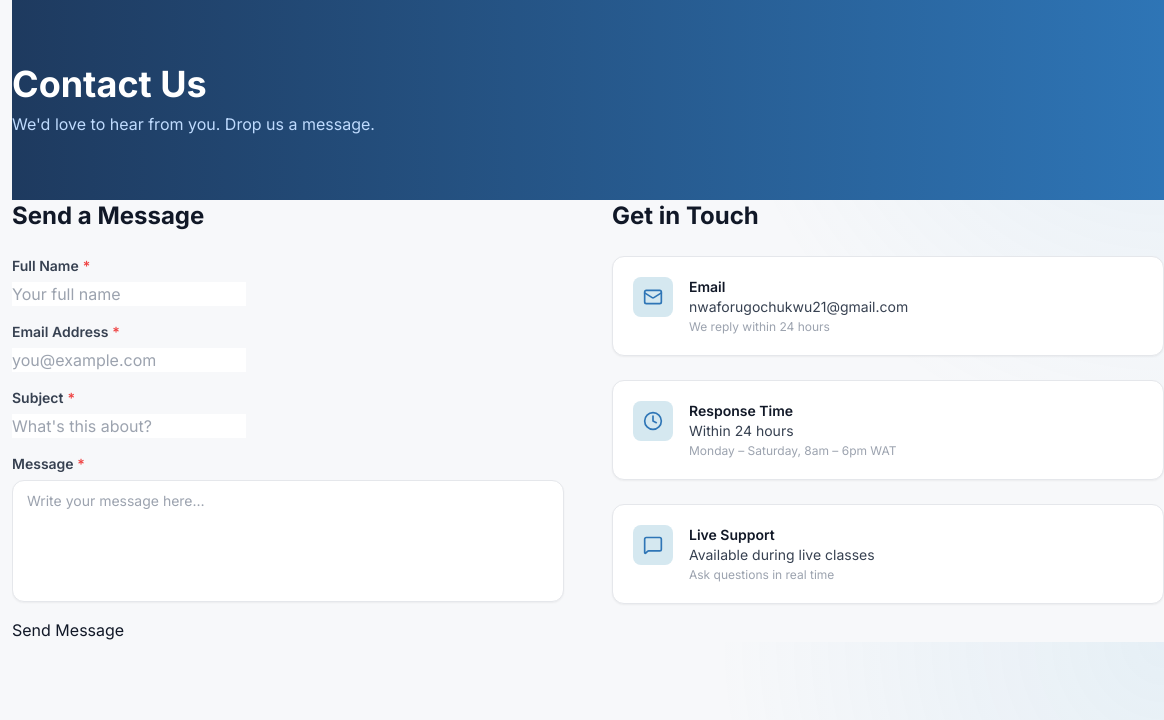
it: ContactPage › submits successfully and shows the success state
Type "Test User" into the field labelled "Full Name*" at x=129, y=294, box [12,282,246,306]
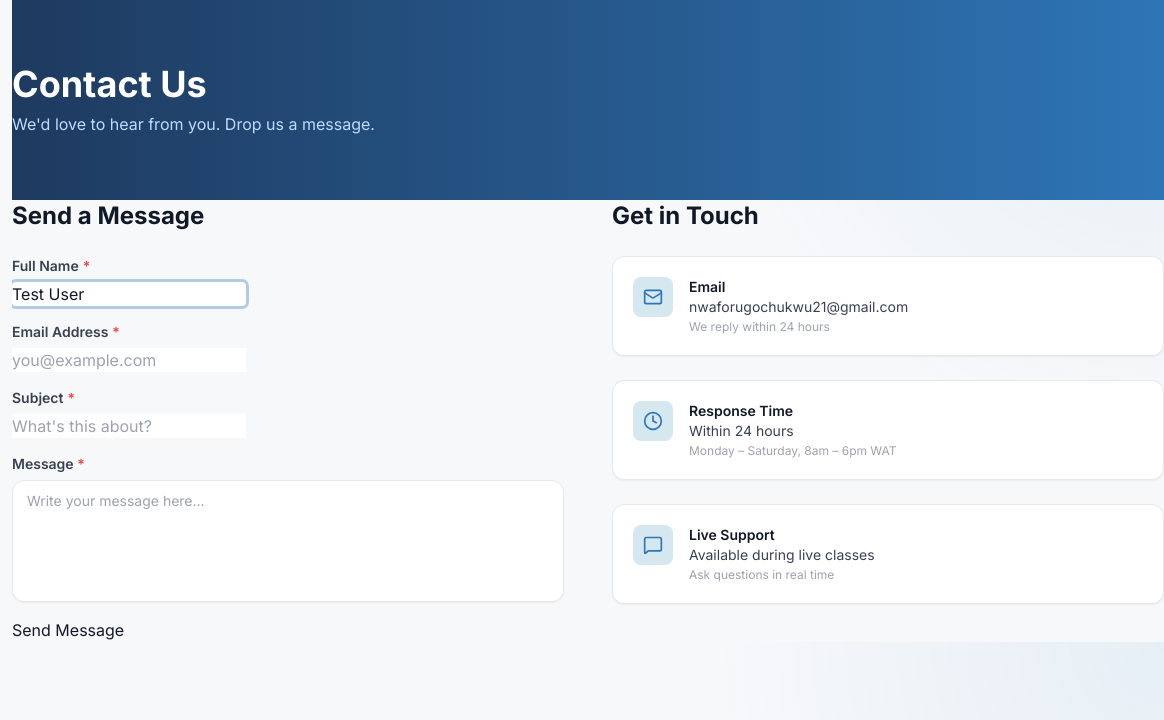
Type "test@example.com" into the field labelled "Email Address*" at x=129, y=360, box [12,348,246,372]
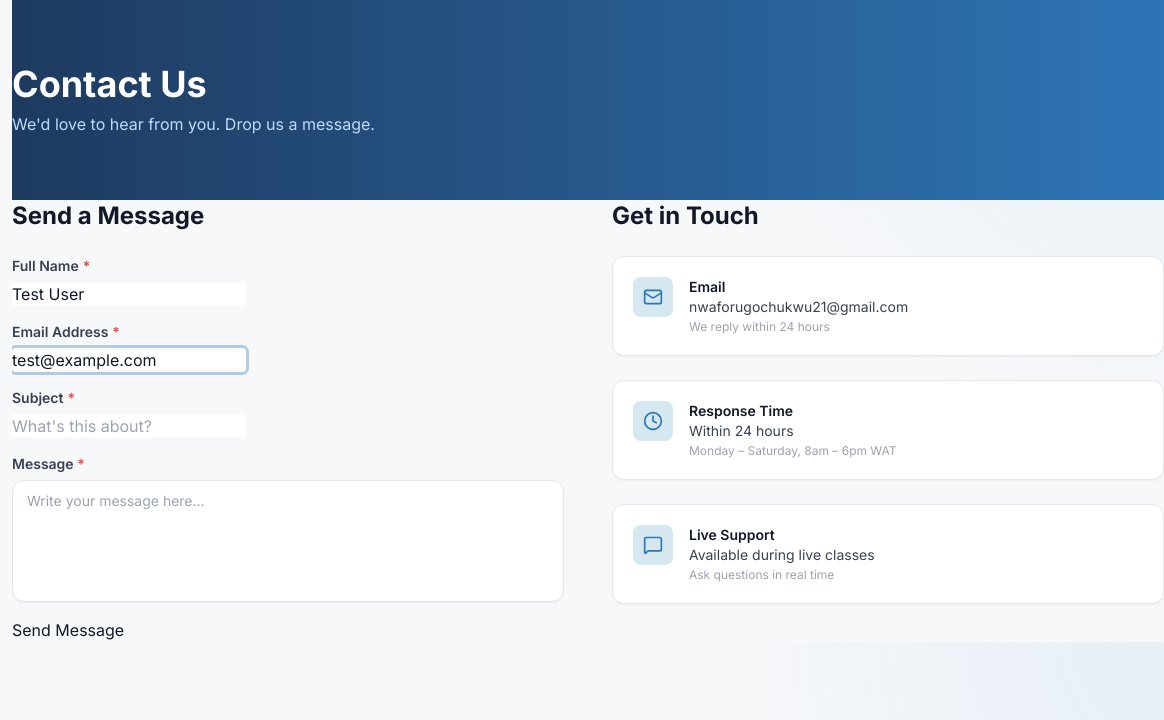
Type "Question about courses" into the field labelled "Subject*" at x=129, y=426, box [12,414,246,438]
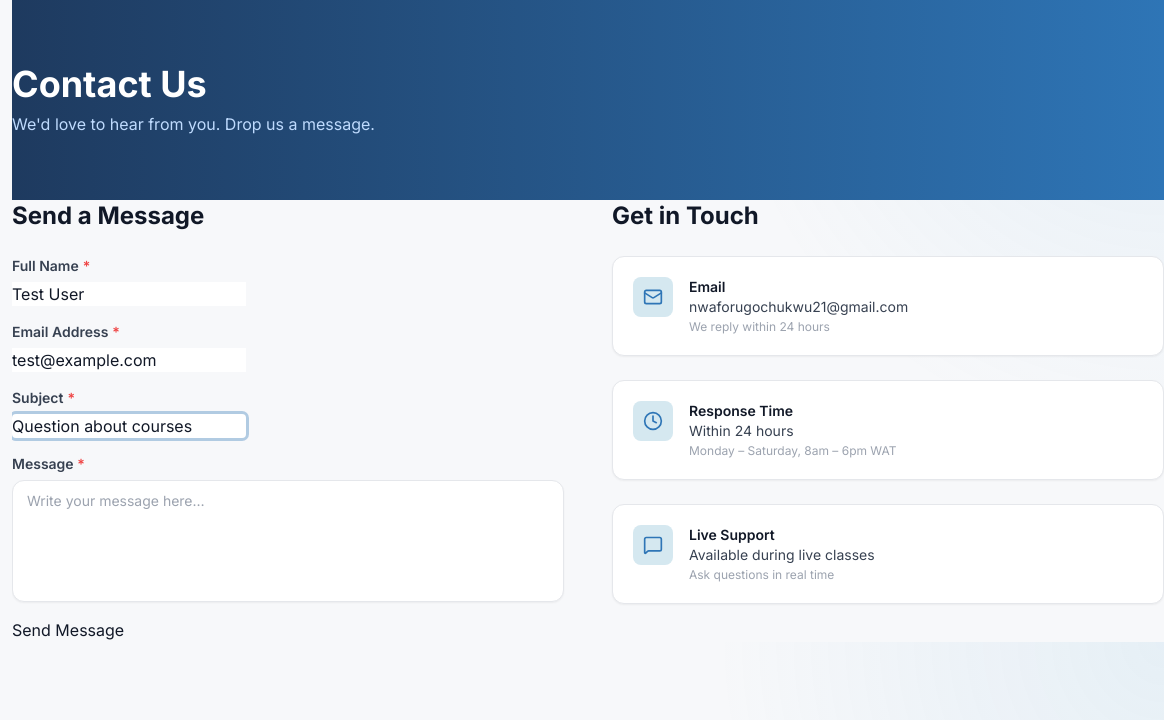
Type "This is a valid message over ten characters." into the text box labelled "Message *" at x=288, y=541, box [12,480,564,602]
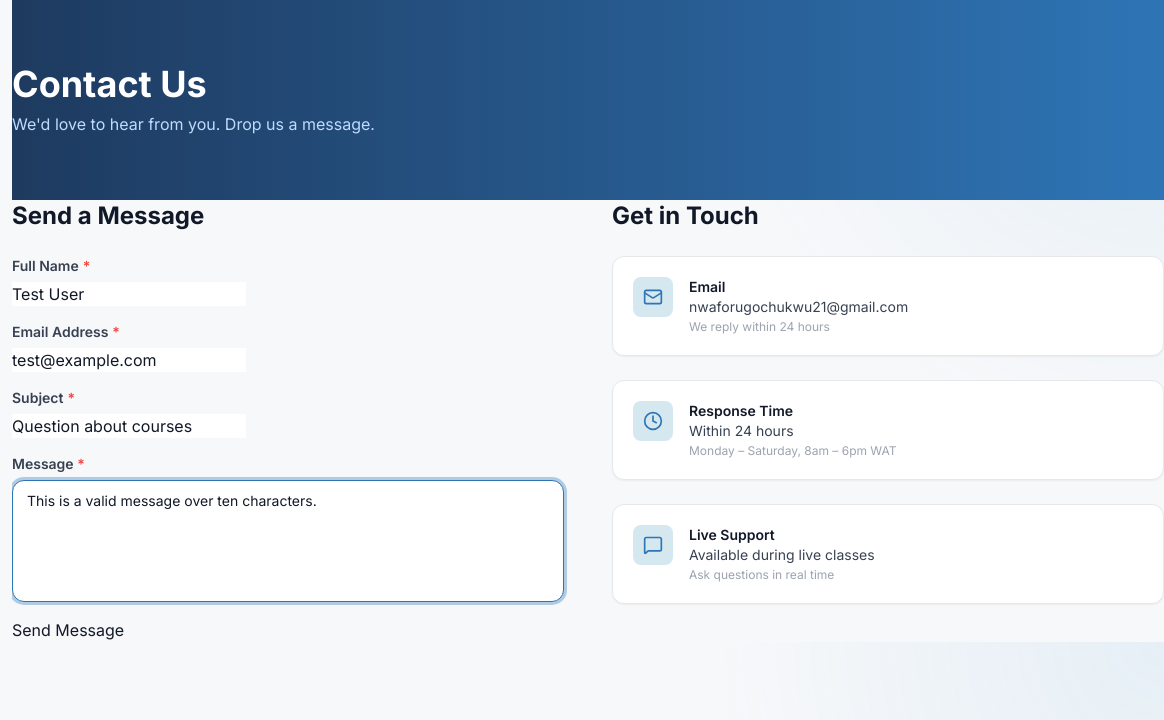
Click the button "Send Message" at x=68, y=630, box [12,618,124,642]
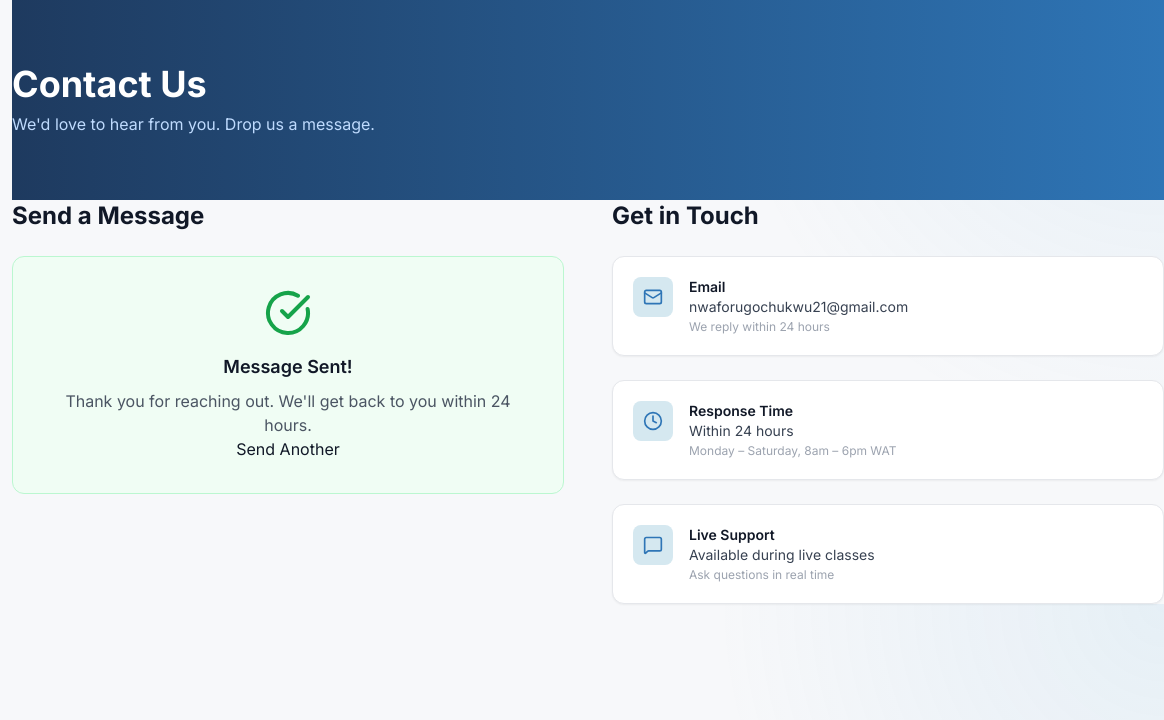
Result: the heading "Message Sent!" is shown at [223,353,353,381]
